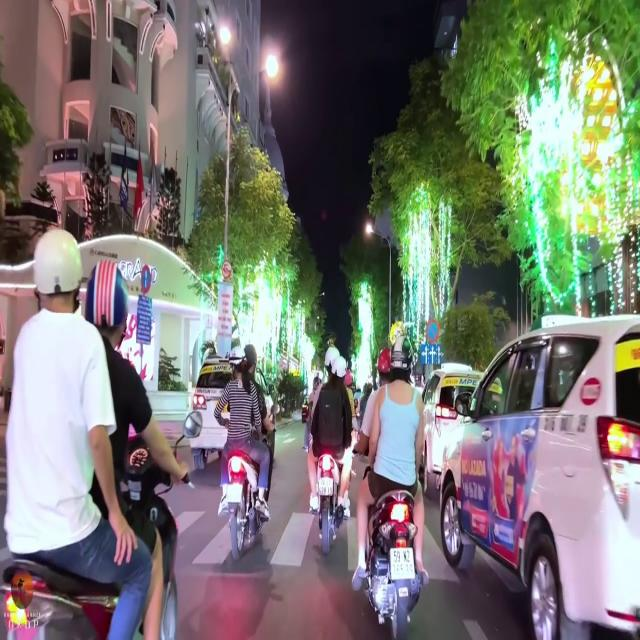bien_trang: (388, 545, 418, 584)
